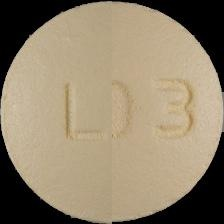68180-558: (0, 0, 224, 224)
